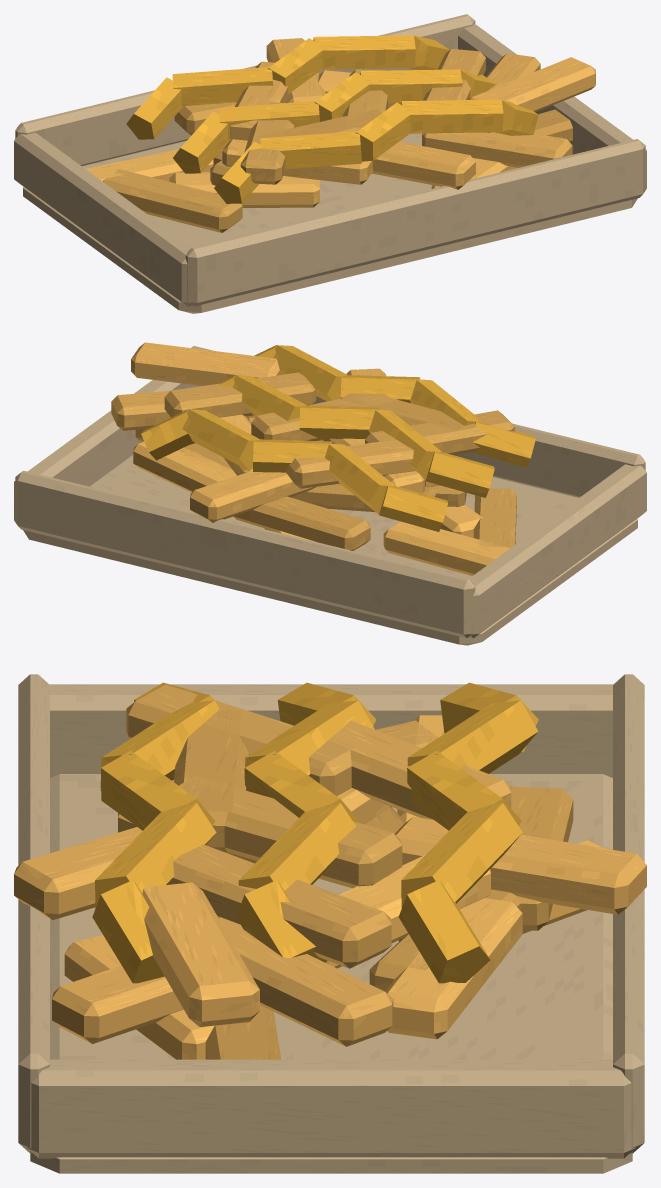
File: cheese_fries.glb
3 views of the same model, one above another, from view 1: azimuth 30°, elevation 25°; view 2: azimuth 150°, elevation 25°; view 3: azimuth 270°, elevation 25° (orthographic). The views are drawn at different scales.
Visible parts, largest first — view 1: block_paper tray side (×2), block_squared potato strip (×18), block_paper tray end (×2), block_paper tray floor, block_melted cheese ribbons 3 (×3), block_melted cheese ribbons 1 (×3), block_melted cheese ribbons 0 (×3), block_melted cheese ribbons 2 (×3), block_melted cheese ribbons 4 (×3); view 2: block_squared potato strip (×18), block_paper tray side (×2), block_paper tray end (×2), block_paper tray floor, block_melted cheese ribbons 3 (×3), block_melted cheese ribbons 0 (×3), block_melted cheese ribbons 2 (×3), block_melted cheese ribbons 1 (×3), block_melted cheese ribbons 4; view 3: block_squared potato strip (×19), block_paper tray end (×2), block_paper tray floor, block_paper tray side (×2), block_melted cheese ribbons 3 (×3), block_melted cheese ribbons 4 (×3), block_melted cheese ribbons 2 (×3), block_melted cheese ribbons 1 (×3), block_melted cheese ribbons 0 (×2).
Part boxes in pixels (x1=…): block_paper tray side (×2): x1=15, y1=14, x2=645, y2=306; block_squared potato strip (×18): x1=86, y1=38, x2=595, y2=232; block_paper tray end (×2): x1=14, y1=23, x2=646, y2=306; block_paper tray floor: x1=23, y1=133, x2=637, y2=313; block_melted cheese ribbons 3 (×3): x1=313, y1=35, x2=503, y2=133; block_melted cheese ribbons 1 (×3): x1=172, y1=67, x2=361, y2=169; block_melted cheese ribbons 0 (×3): x1=126, y1=77, x2=261, y2=203; block_melted cheese ribbons 2 (×3): x1=268, y1=38, x2=410, y2=161; block_melted cheese ribbons 4 (×3): x1=407, y1=35, x2=538, y2=135; block_squared potato strip (×18): x1=111, y1=342, x2=516, y2=575; block_paper tray side (×2): x1=15, y1=346, x2=645, y2=638; block_paper tray end (×2): x1=14, y1=380, x2=646, y2=638; block_paper tray floor: x1=23, y1=455, x2=637, y2=645; block_melted cheese ribbons 3 (×3): x1=182, y1=345, x2=347, y2=470; block_melted cheese ribbons 0 (×3): x1=379, y1=421, x2=535, y2=531; block_melted cheese ribbons 2 (×3): x1=253, y1=375, x2=420, y2=472; block_melted cheese ribbons 1 (×3): x1=324, y1=379, x2=479, y2=514; block_melted cheese ribbons 4: x1=141, y1=409, x2=194, y2=460; block_squared potato strip (×19): x1=14, y1=684, x2=646, y2=1059; block_paper tray end (×2): x1=27, y1=684, x2=635, y2=1158; block_paper tray floor: x1=30, y1=774, x2=632, y2=1173; block_paper tray side (×2): x1=18, y1=674, x2=644, y2=1153; block_melted cheese ribbons 3 (×3): x1=95, y1=803, x2=522, y2=908; block_melted cheese ribbons 4 (×3): x1=92, y1=880, x2=490, y2=983; block_melted cheese ribbons 2 (×3): x1=101, y1=751, x2=521, y2=830; block_melted cheese ribbons 1 (×3): x1=100, y1=700, x2=538, y2=790; block_melted cheese ribbons 0 (×2): x1=277, y1=682, x2=538, y2=751.
Bounding box in the file's own units: 0.124 × 0.0315 × 0.0837.
1 material, 1 textured.
